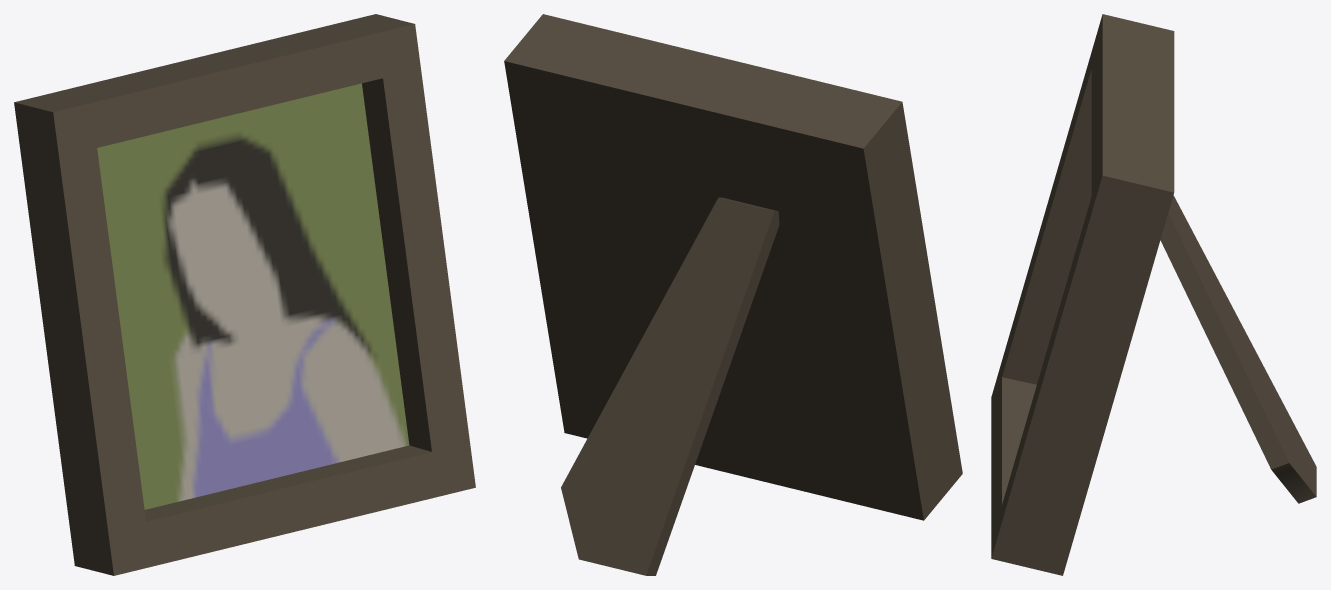
File: SM_Prop_Photo_05.obj
3 renders of one model, left to right at view 1: azimuth 30°, elevation 25°; view 2: azimuth 150°, elevation 25°; view 3: azimuth 270°, elevation 25°, orthographic. The views are drawn at different scales.
Parts seen in each view (by area): view 1: SM_Prop_Photo_05_M_PolygonOffice_01_A; view 2: SM_Prop_Photo_05_M_PolygonOffice_01_A; view 3: SM_Prop_Photo_05_M_PolygonOffice_01_A.
Boxes of the visible parts, x1,y1,x2,y2 form: SM_Prop_Photo_05_M_PolygonOffice_01_A: (14, 14, 475, 575); SM_Prop_Photo_05_M_PolygonOffice_01_A: (504, 14, 962, 575); SM_Prop_Photo_05_M_PolygonOffice_01_A: (991, 14, 1316, 575).
Size of the model in its own units: 0.2506 by 0.2897 by 0.2133.
1 material, 1 textured.
